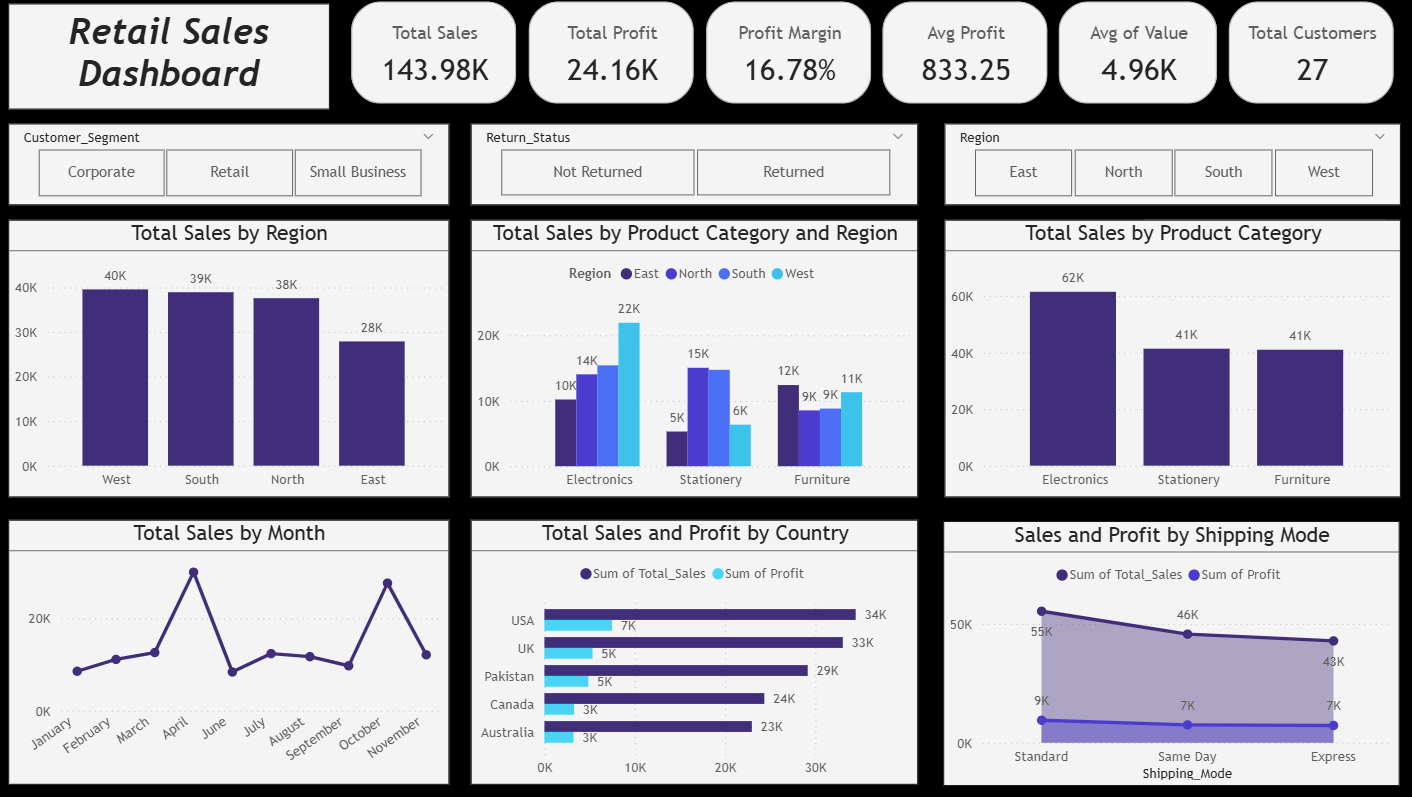

What the dashboard file says about the page in this screenshot:
{"tool":"powerbi","page":{"name":"Page 1","canvas":[1280,720],"ordinal":0},"visuals":[{"type":"textbox","box":[19.2,6.9,286.8,94.7],"z":1000},{"type":"cardVisual","fields":{"Data":["retail-dataset.Total Sales"]},"box":[319.7,0,157.8,101.5],"z":2000},{"type":"cardVisual","fields":{"Data":["retail-dataset.Total Profit"]},"box":[477.5,0,157.8,101.5],"z":3000},{"type":"cardVisual","fields":{"Data":["retail-dataset.Total Customers"]},"box":[1101.2,0,157.5,101.2],"z":4000},{"type":"cardVisual","fields":{"Data":["retail-dataset.Profit Margin"]},"box":[635.3,0,157.8,101.5],"z":5000},{"type":"cardVisual","fields":{"Data":["retail-dataset.Avg Profit"]},"box":[792.5,0,157.5,101.2],"z":6000},{"type":"cardVisual","fields":{"Data":["retail-dataset.Average of Value"]},"box":[950,0,151.2,101.2],"z":7000},{"type":"slicer","fields":{"Values":["retail-dataset.Payment_Method"]},"box":[1030.5,199,214.1,83.7],"z":8000},{"type":"slicer","fields":{"Values":["retail-dataset.Customer_Segment"]},"box":[19.2,113.9,392.5,72.7],"z":9000},{"type":"slicer","fields":{"Values":["retail-dataset.Return_Status"]},"box":[431.2,113.8,398.8,72.5],"z":10000},{"type":"slicer","fields":{"Values":["retail-dataset.Region"]},"box":[852.1,113.9,406.2,72.7],"z":11000},{"type":"clusteredColumnChart","title":"Total Sales by Region","fields":{"Category":["retail-dataset.Region"],"Y":["Sum(retail-dataset.Total_Sales)"]},"box":[19.2,199,392.5,247],"z":12000},{"type":"clusteredColumnChart","title":"Total Sales by Product Category and Region","fields":{"Category":["retail-dataset.Product_Category"],"Series":["retail-dataset.Region"],"Y":["Sum(retail-dataset.Total_Sales)"]},"box":[431.2,198.8,398.8,247.5],"z":13000},{"type":"columnChart","title":"Total Sales by Product Category","fields":{"Category":["retail-dataset.Product_Category"],"Y":["Sum(retail-dataset.Total_Sales)"]},"box":[852.1,199,406.2,247],"z":14000},{"type":"lineChart","title":"Total Sales by Month","fields":{"Category":["retail-dataset.Order_Date.Variation.Date Hierarchy.Month"],"Y":["Sum(retail-dataset.Total_Sales)"]},"box":[19.2,466.6,392.5,236],"z":15000},{"type":"clusteredBarChart","title":"Total Sales and Profit by Country","fields":{"Category":["retail-dataset.Country"],"Y":["Sum(retail-dataset.Total_Sales)","Sum(retail-dataset.Profit)"]},"box":[431.2,466.2,398.8,236.2],"z":16000},{"type":"areaChart","title":"Sales and Profit by Shipping Mode","fields":{"Category":["retail-dataset.Shipping_Mode"],"Y":["Sum(retail-dataset.Total_Sales)","Sum(retail-dataset.Profit)"]},"box":[852,467,406,236],"z":17000}]}

Visuals, with their boxes in screenshot pixels (x1, y1, x2, y2), scaled from the page's 1280x720 canvas onto the 1412x797 screenshot:
textbox: 21:8:338:112
cardVisual - retail-dataset.Total Sales: 353:0:527:112
cardVisual - retail-dataset.Total Profit: 527:0:701:112
cardVisual - retail-dataset.Total Customers: 1215:0:1389:112
cardVisual - retail-dataset.Profit Margin: 701:0:875:112
cardVisual - retail-dataset.Avg Profit: 874:0:1048:112
cardVisual - retail-dataset.Average of Value: 1048:0:1215:112
slicer - retail-dataset.Payment_Method: 1137:220:1373:313
slicer - retail-dataset.Customer_Segment: 21:126:454:207
slicer - retail-dataset.Return_Status: 476:126:916:206
slicer - retail-dataset.Region: 940:126:1388:207
"Total Sales by Region" clusteredColumnChart: 21:220:454:494
"Total Sales by Product Category and Region" clusteredColumnChart: 476:220:916:494
"Total Sales by Product Category" columnChart: 940:220:1388:494
"Total Sales by Month" lineChart: 21:517:454:778
"Total Sales and Profit by Country" clusteredBarChart: 476:516:916:778
"Sales and Profit by Shipping Mode" areaChart: 940:517:1388:778
